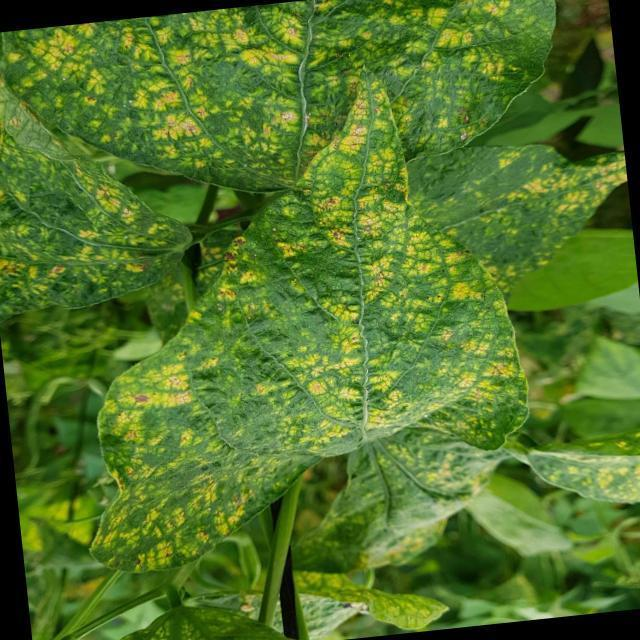Mosaic Virus: (172, 108, 534, 476), (17, 0, 562, 202), (86, 343, 306, 576), (0, 100, 188, 330)
